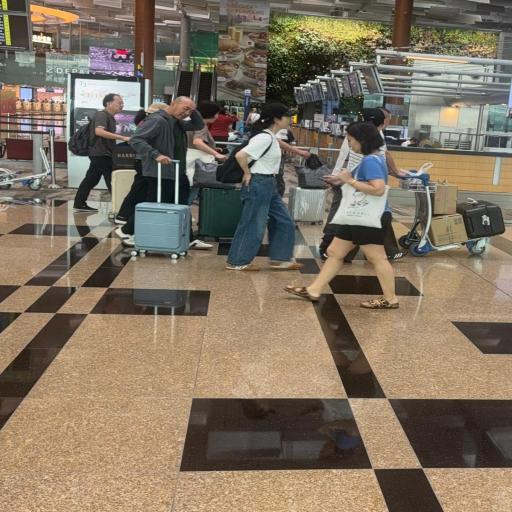person_left: (284, 121, 400, 310)
person_right: (216, 102, 304, 272), (69, 93, 132, 213)
person_with_luggage_right: (314, 106, 508, 256), (114, 95, 214, 250), (184, 100, 228, 206)
